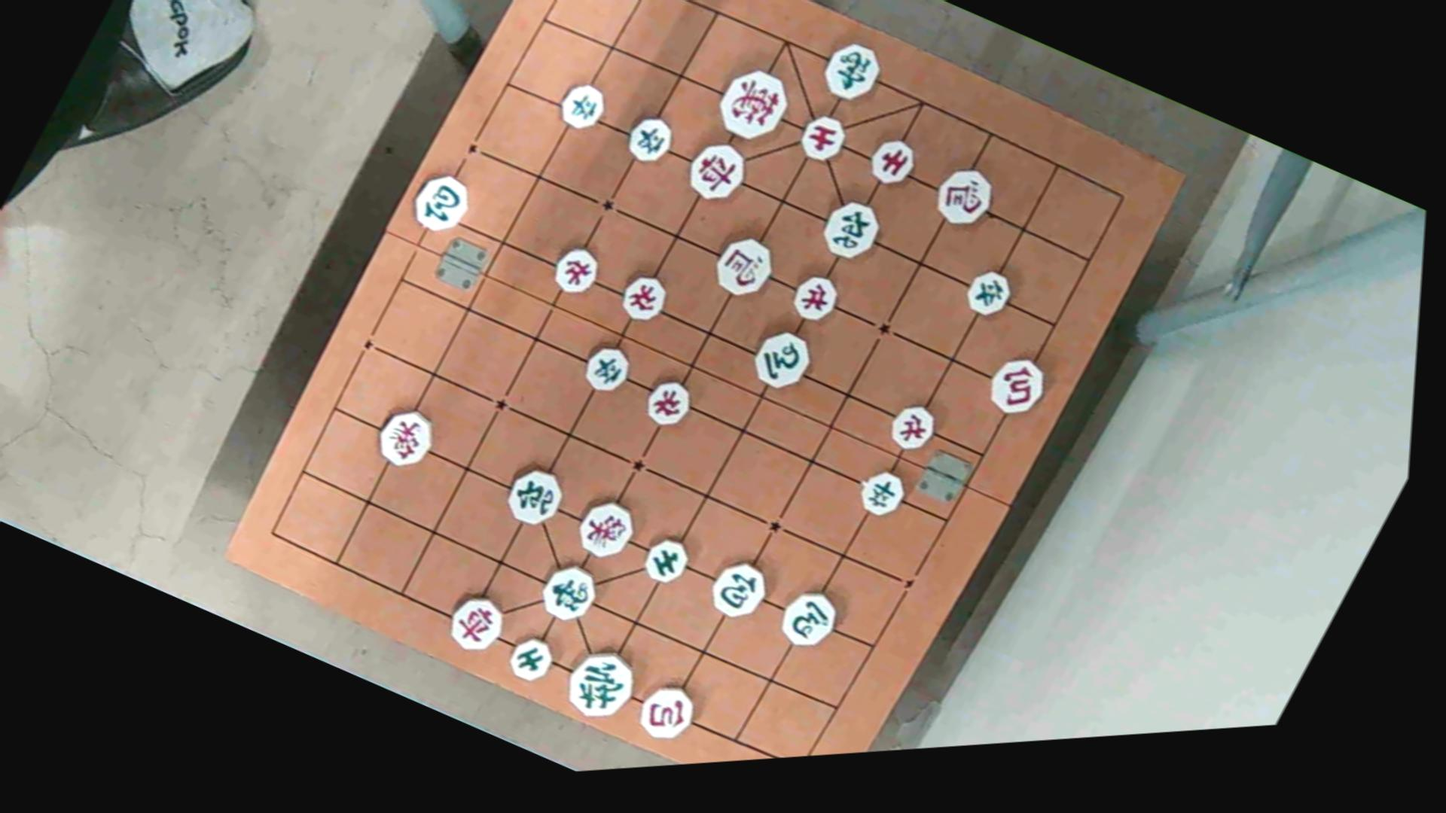cha_green: (810, 190, 887, 266), (497, 459, 573, 533)
cha_red: (677, 134, 753, 209), (438, 586, 514, 659)
jol_green: (619, 109, 682, 169), (550, 78, 613, 136), (577, 338, 638, 397), (852, 463, 914, 521), (958, 264, 1020, 322)
jol_red: (782, 271, 847, 330), (879, 397, 942, 457), (634, 374, 697, 434), (612, 269, 675, 328), (544, 241, 607, 300)
ma_green: (743, 323, 822, 398), (771, 585, 847, 658)
ma_red: (926, 161, 1002, 233), (708, 231, 780, 302)
po_green: (701, 552, 777, 624), (402, 166, 478, 238)
po_red: (978, 349, 1055, 423), (630, 678, 702, 748)
sa_green: (633, 532, 697, 592), (500, 633, 559, 690)
sa_red: (790, 106, 856, 170), (859, 132, 922, 192)
sang_green: (535, 559, 604, 626), (818, 38, 884, 105)
sang_red: (569, 492, 646, 566), (369, 403, 441, 471)
wang_green: (560, 645, 641, 724)
wang_red: (709, 62, 795, 146)
